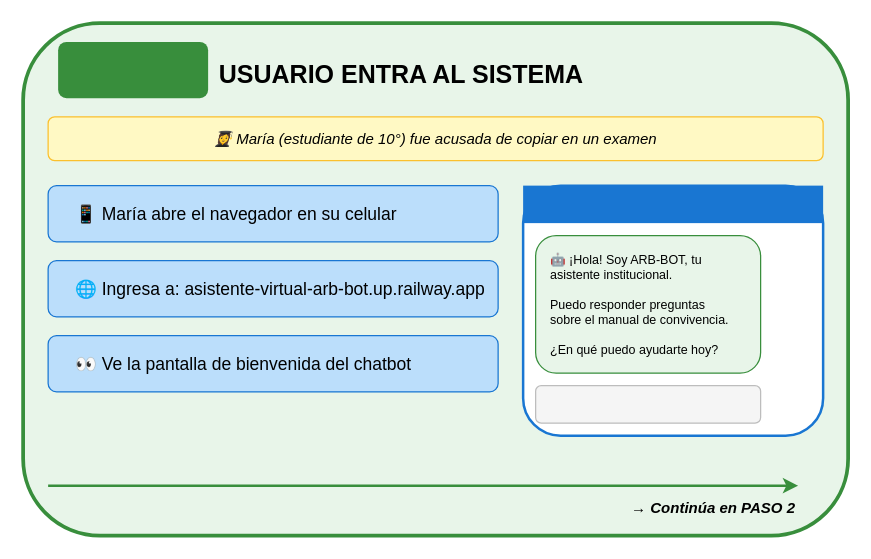
This 871x559 diagram has some shape labels left out. The centre of each missing label's shape, as x and y in pixels:
"Escribe tu mensaje..." belongs at [647,403].
"PASO 1" belongs at [133,69].
"🤖 ARB-BOT 🟢" belongs at [672,203].
